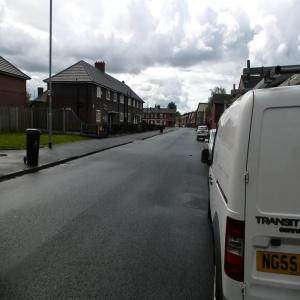Vehicle-registration-plate: (258, 251, 300, 278), (201, 132, 205, 135)
